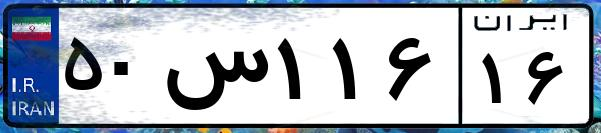0: (110, 28, 158, 98)
1: (270, 28, 330, 110), (330, 28, 385, 110), (475, 38, 525, 113)
5: (57, 26, 110, 100)
6: (385, 28, 445, 110), (525, 38, 570, 115)
س: (158, 20, 270, 120)
